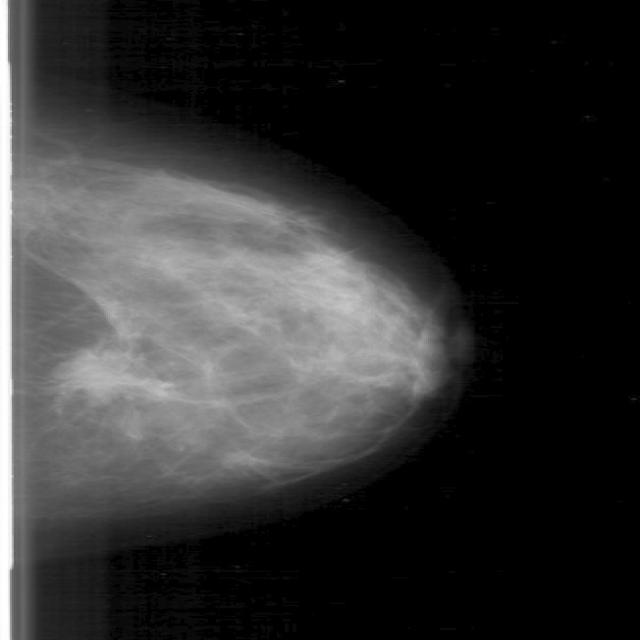tumour: (53, 349, 149, 401)
